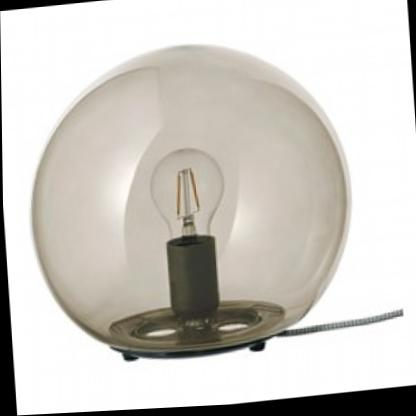Lamp: (5, 10, 372, 406)
